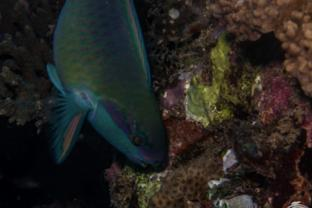Scaridae -Parrotfishes-: (40, 0, 172, 175)
